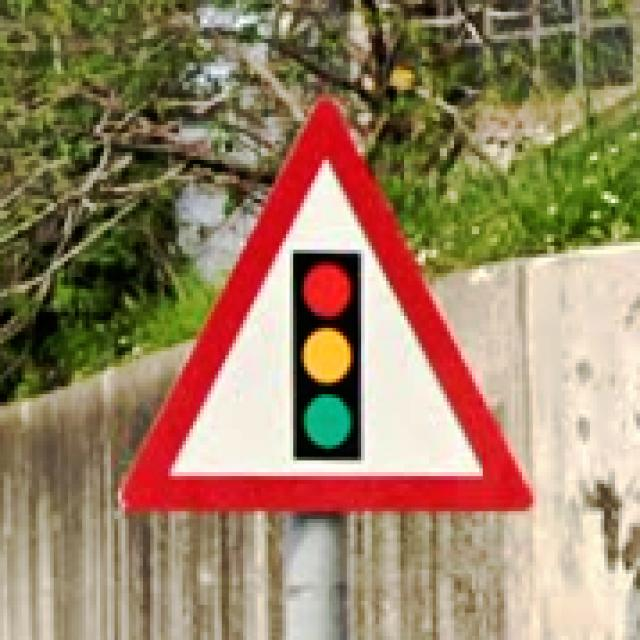signalahead: (114, 94, 536, 515)
